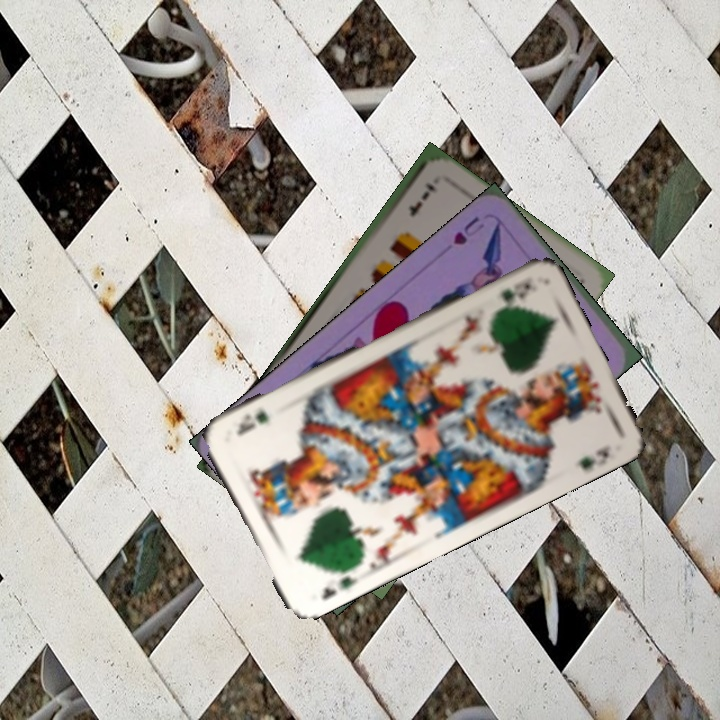E7: (404, 178, 437, 219)
GK: (317, 572, 361, 602), (495, 278, 534, 306)
HU: (449, 212, 488, 248)
